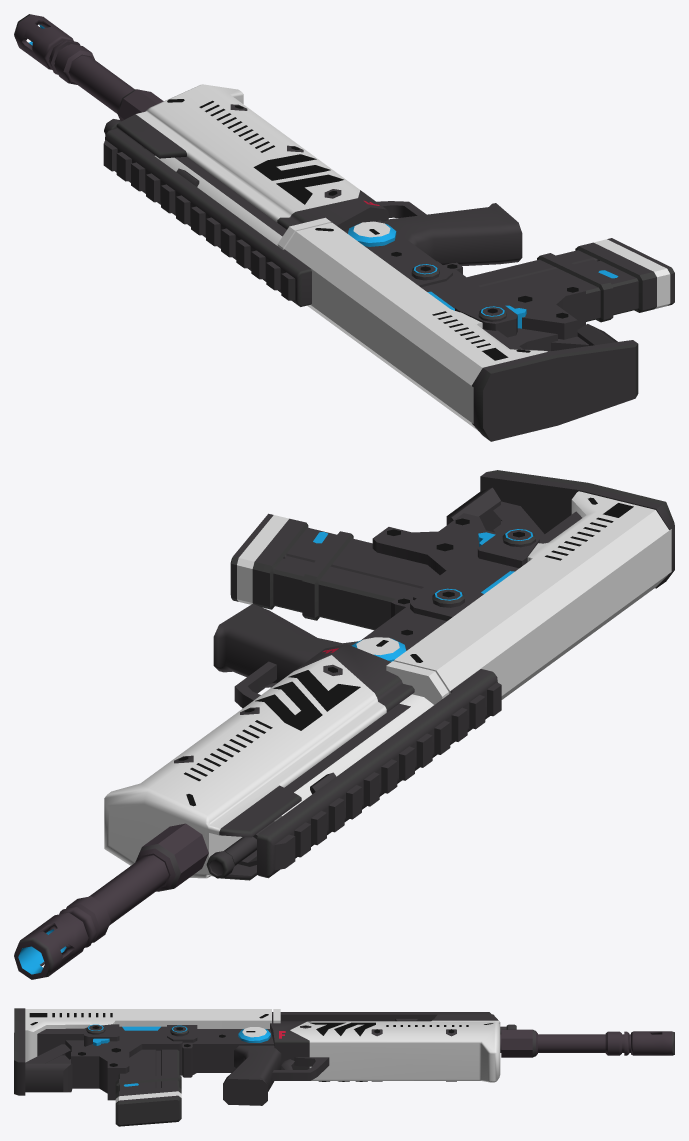
The model's file is hare.glb.
3 renders of one model, top to bottom at view 1: azimuth 30°, elevation 25°; view 2: azimuth 150°, elevation 25°; view 3: azimuth 270°, elevation 25°, orthographic. The views are drawn at different scales.
Visible parts, largest first — view 1: Hare_Original_Weapon; view 2: Hare_Original_Weapon; view 3: Hare_Original_Weapon.
Boxes of the visible parts, bbox=[...] form: Hare_Original_Weapon: bbox=[14, 14, 674, 441]; Hare_Original_Weapon: bbox=[14, 470, 674, 979]; Hare_Original_Weapon: bbox=[14, 1008, 674, 1126].
Bounding box in the file's own units: 0.2021 × 0.0523 × 0.5995.
1 material, 1 textured.
